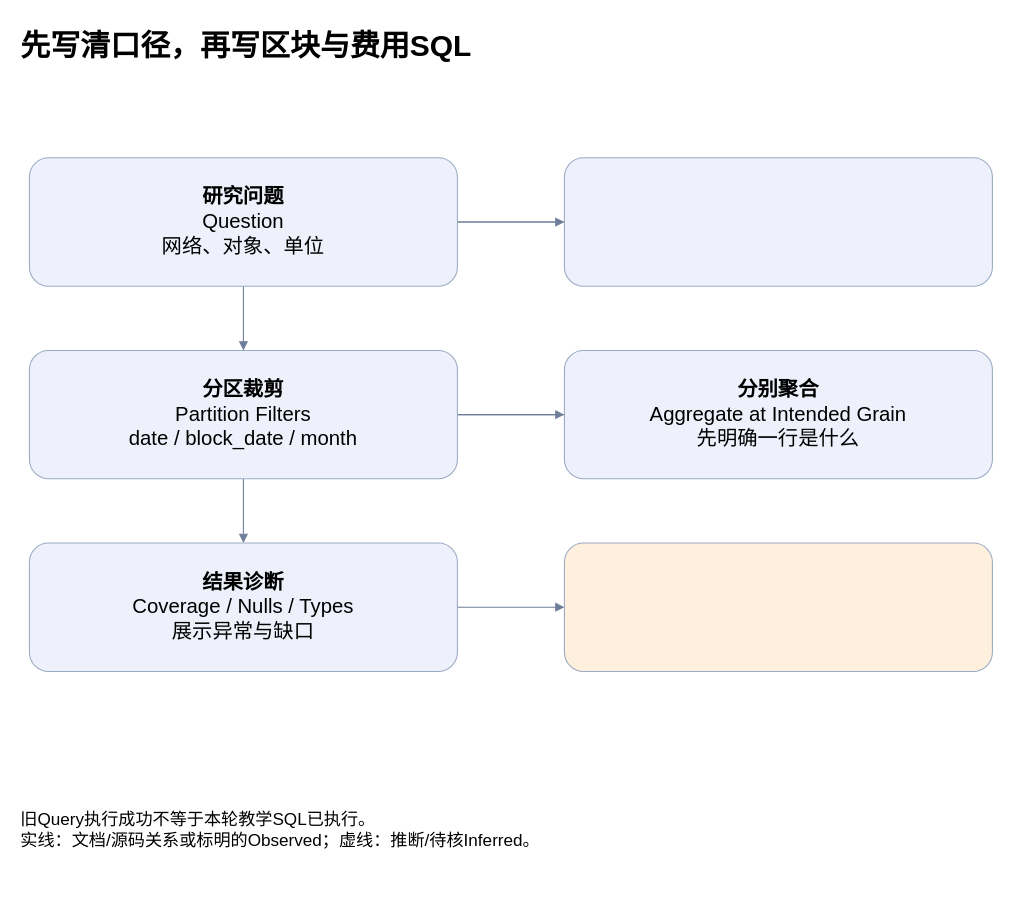
The diagram is 1021 pixels wide and 908 high, and some of its shapes have lost their labels. Here are the shapes that lost their labels. From the top down, the centre of each, then its label:
[777,221]: 时间窗口 UTC [Start, End) 完整日或固定截止
[777,606]: 交付状态 STATIC_CHECKED 新执行仍受限
